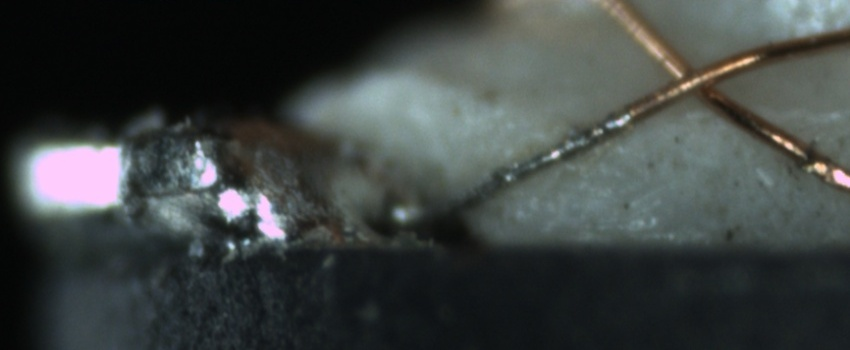CL: (650, 40, 746, 113)
DL: (650, 94, 850, 147)
TS: (393, 107, 632, 233)
TTCW: (437, 88, 664, 223)
